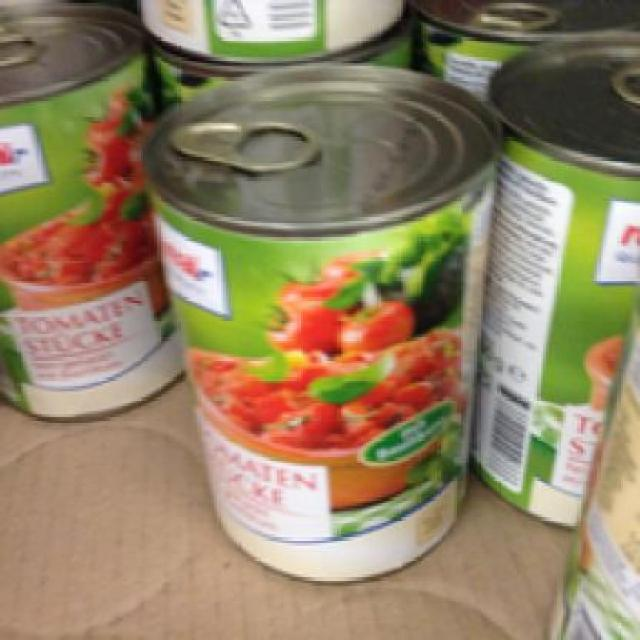Tomato Sauce: (137, 60, 494, 583), (0, 3, 175, 424)
